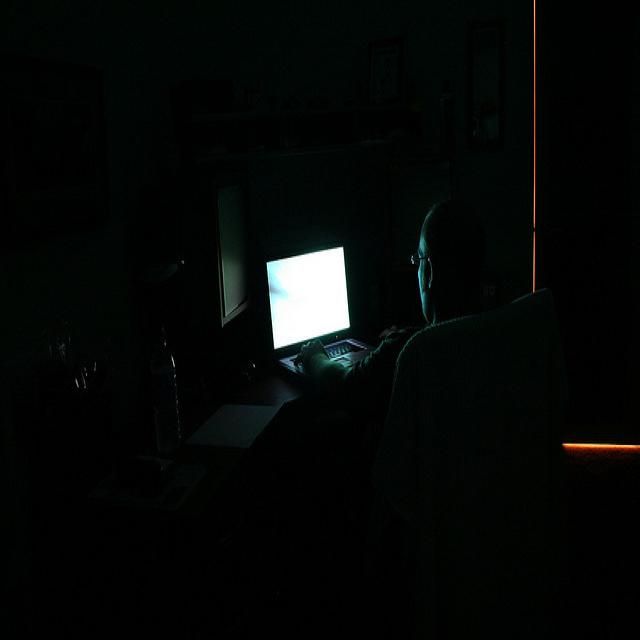Bottle: (133, 305, 189, 471)
People: (370, 186, 518, 486)
Table: (343, 281, 590, 627)
